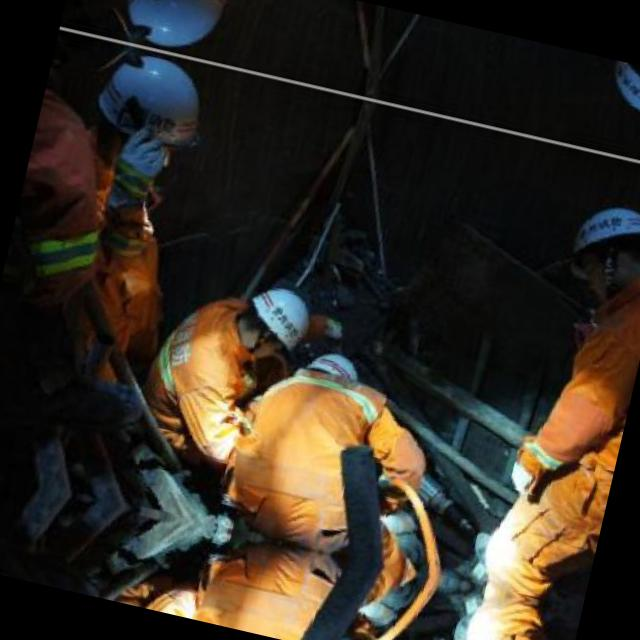helmet: (83, 44, 207, 184), (545, 176, 640, 332), (221, 269, 320, 377), (111, 0, 230, 56), (291, 340, 367, 399), (589, 57, 640, 141)
